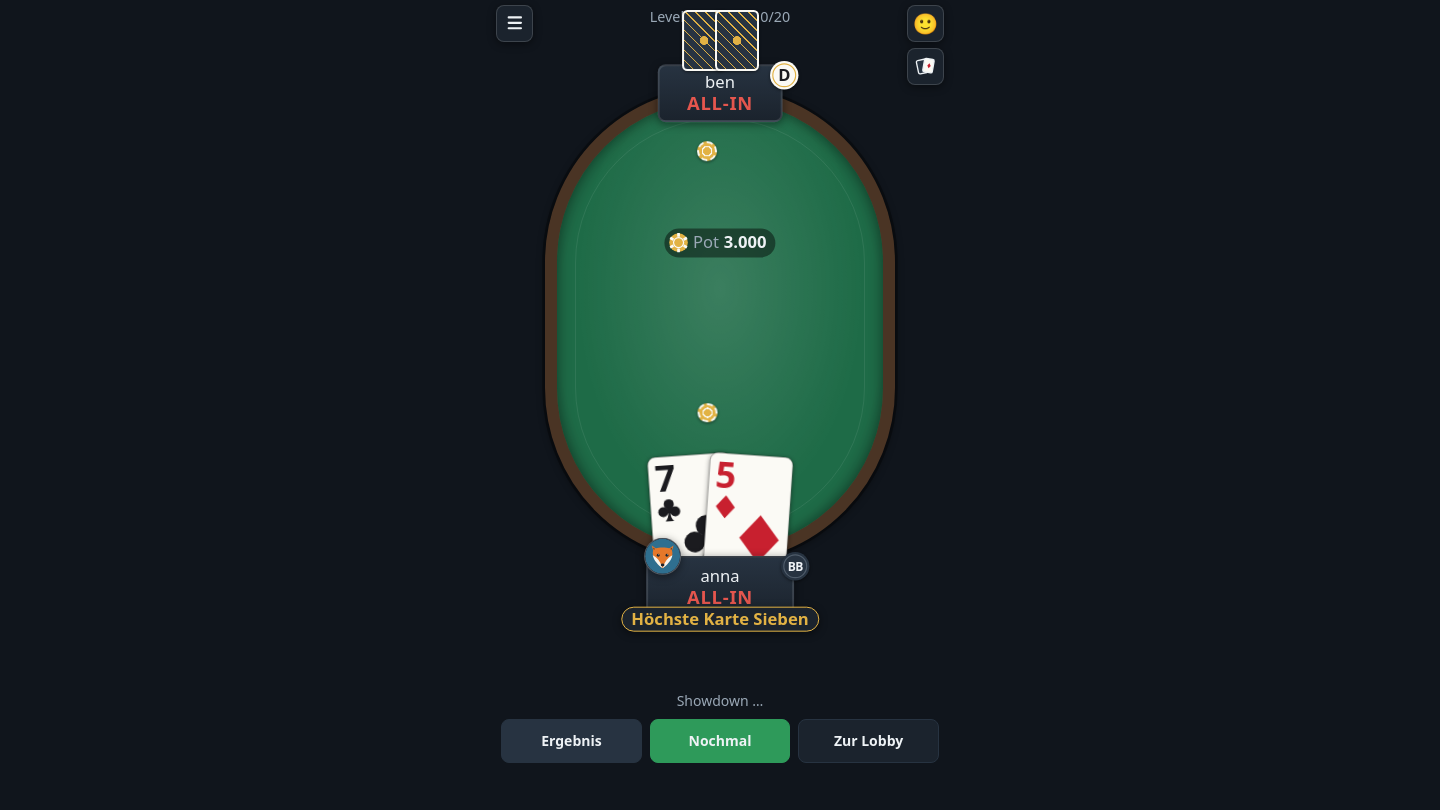
Test: GameTable › Showdown vor dem Rundenende (WP-031) › per Tipp überspringbar
This screenshot has width=1440, height=810.
Press the mouse on the element with test id "poker-table" at point(720, 405), box top-left (489, 0), bottom-right (951, 809)
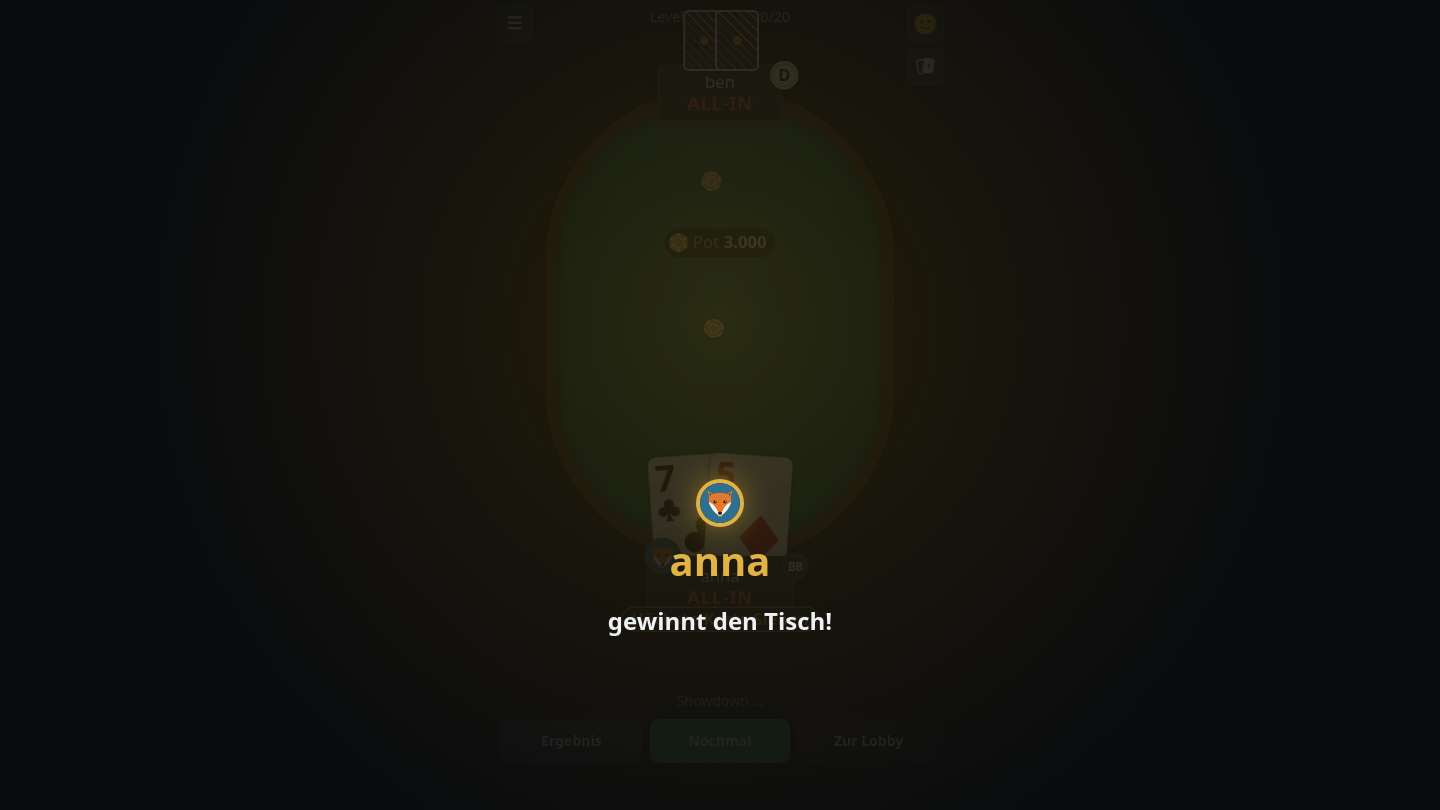
Check: the message "anna gewinnt den Tisch!" is shown
Press the mouse on the message with test id "table-winner" at point(720, 405), box top-left (0, 0), bottom-right (1439, 809)
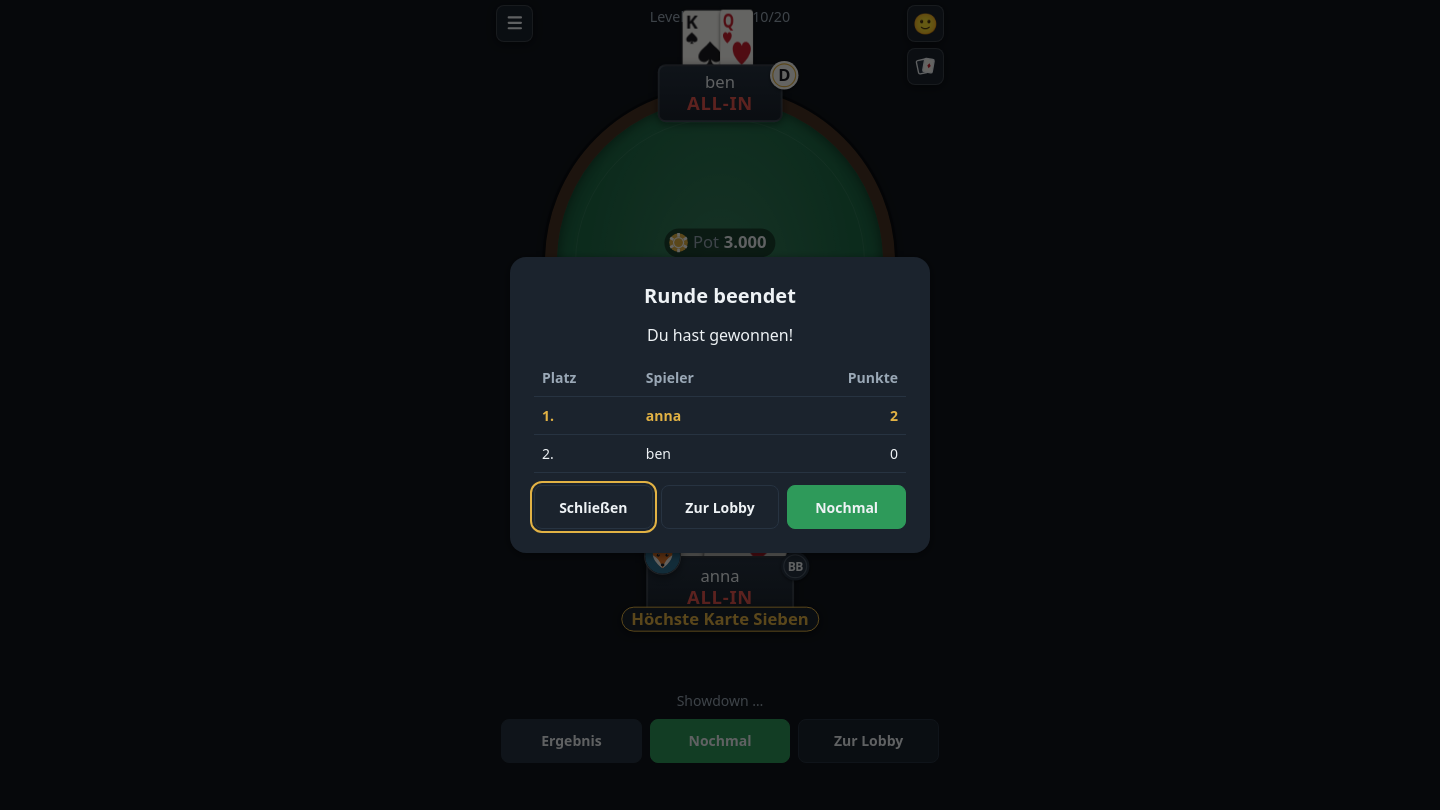
Check: the message with test id "table-winner" is gone
Check: the dialog "Runde beendet" is shown, box top-left (510, 257), bottom-right (930, 553)
